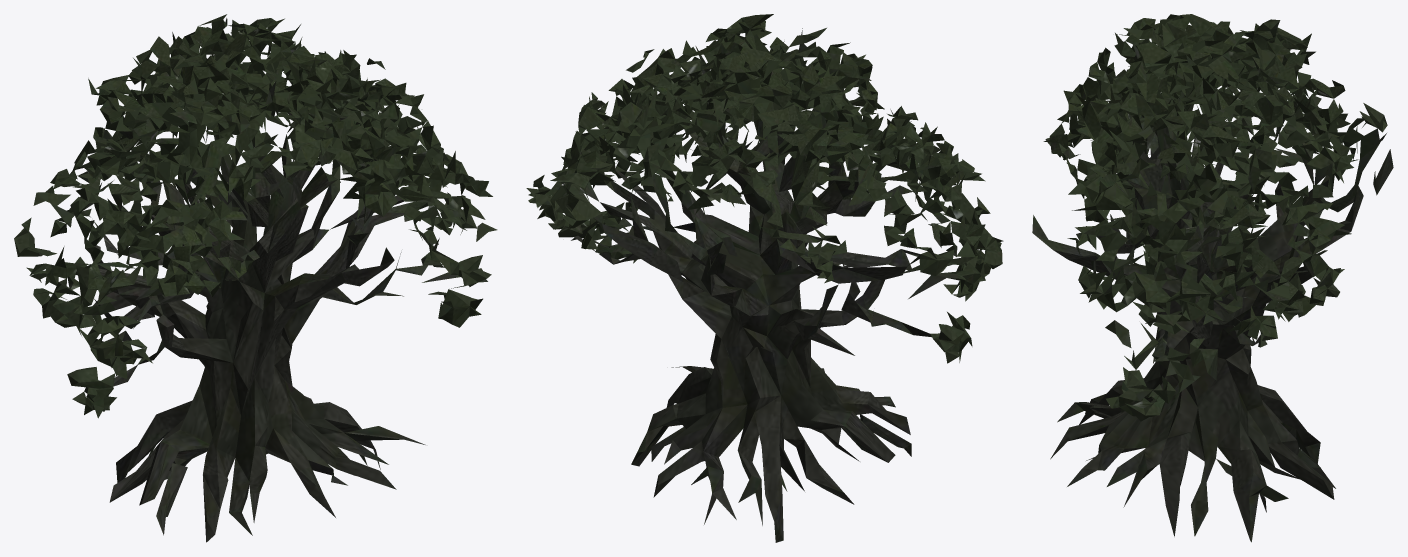
Rendered from oak1.glb.
3 views of the same model, side by side, from view 1: azimuth 30°, elevation 25°; view 2: azimuth 150°, elevation 25°; view 3: azimuth 270°, elevation 25° (orthographic). The views are drawn at different scales.
Parts seen in each view (by area): view 1: Mesh_0; view 2: Mesh_0; view 3: Mesh_0.
Part boxes in pixels (box(x1,y1,x2,y2)): Mesh_0: box(14, 14, 497, 542); Mesh_0: box(526, 14, 1003, 542); Mesh_0: box(1032, 14, 1393, 542).
Size of the model in its own units: 5.85 by 6 by 4.16.
1 material, 1 textured.
